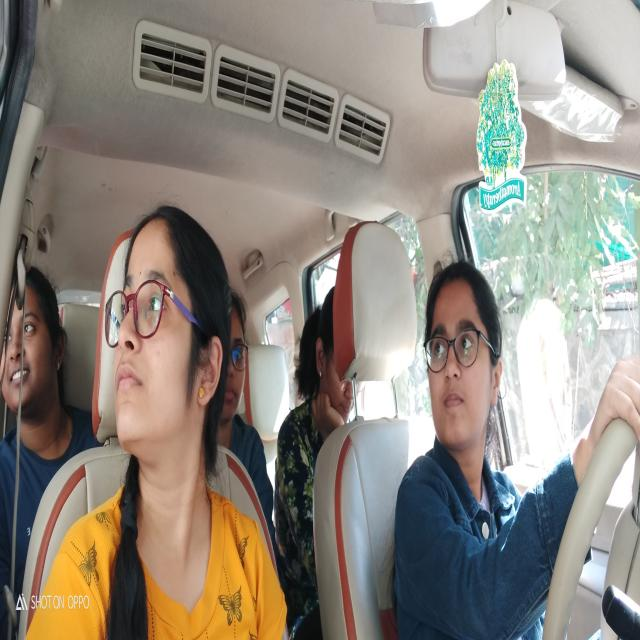LeftRight: (417, 234, 506, 451)
person: (103, 196, 234, 461), (0, 269, 69, 442), (306, 293, 354, 450), (227, 271, 251, 432)
